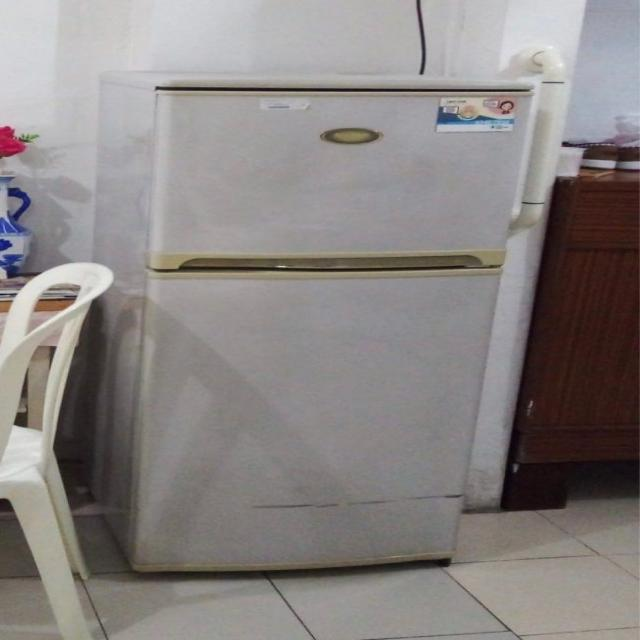refrigerator: (122, 77, 543, 580)
